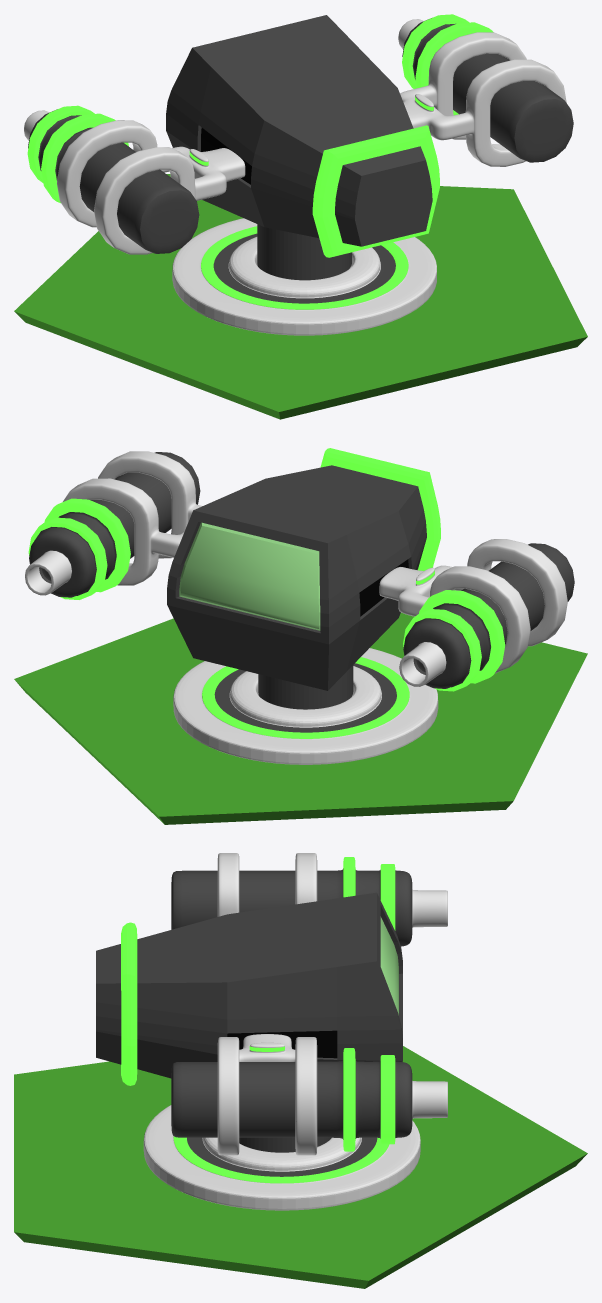
Rendered from Small_turret_2.fbx.
The picture shows the model from 3 angles, top to bottom: view 1: azimuth 30°, elevation 25°; view 2: azimuth 150°, elevation 25°; view 3: azimuth 270°, elevation 25°; orthographic projection. The views are drawn at different scales.
Parts seen in each view (by area): view 1: DodecagonVideTuile.001, Cube.003, Cube.002, Cylinder.002, Cylinder.003; view 2: DodecagonVideTuile.001, Cube.003, Cube.002, Cylinder.002, Cylinder.003; view 3: DodecagonVideTuile.001, Cube.003, Cube.002, Cylinder.002, Cylinder.003.
Boxes of the visible parts, x1,y1,x2,y2 form: DodecagonVideTuile.001: (14,174,587,419); Cube.003: (166,15,439,257); Cube.002: (24,14,573,254); Cylinder.002: (172,218,436,335); Cylinder.003: (257,224,351,280); DodecagonVideTuile.001: (14,612,587,824); Cube.003: (167,448,440,690); Cube.002: (25,451,574,691); Cylinder.002: (173,648,438,764); Cylinder.003: (258,665,353,709); DodecagonVideTuile.001: (14,1046,587,1288); Cube.003: (96,892,402,1085); Cube.002: (171,853,447,1155); Cylinder.002: (143,1105,420,1210); Cylinder.003: (239,1137,331,1152).
Size of the model in its own units: 111 by 48.41 by 105.
